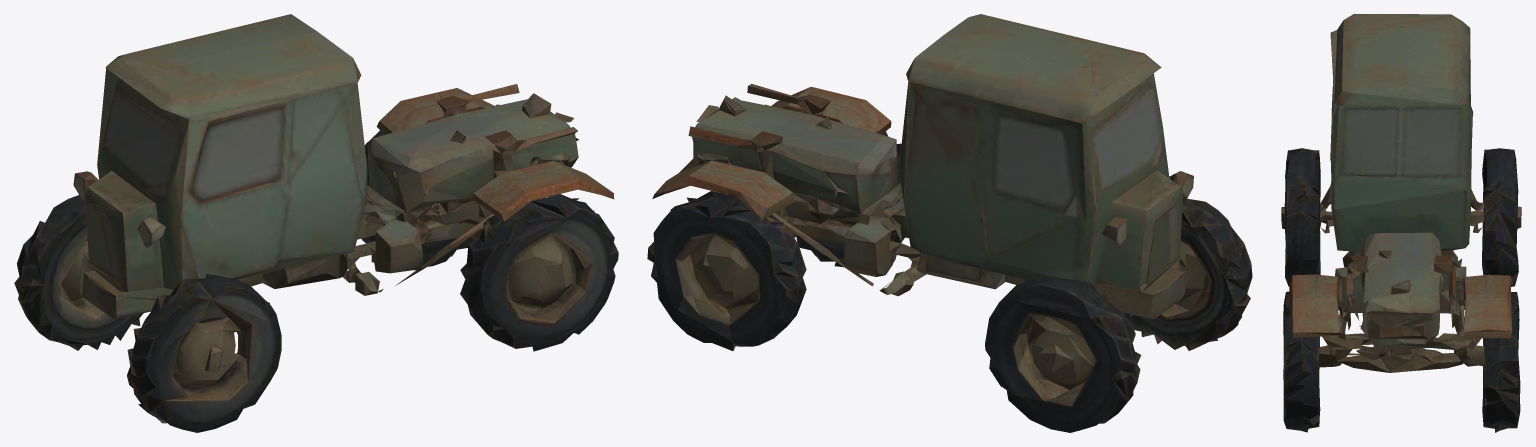
The model's file is tractor.glb.
3 views of the same model, side by side, from view 1: azimuth 30°, elevation 25°; view 2: azimuth 150°, elevation 25°; view 3: azimuth 270°, elevation 25° (orthographic). The views are drawn at different scales.
Visible parts, largest first — view 1: mesh_node; view 2: mesh_node; view 3: mesh_node.
Part boxes in pixels (<box>): mesh_node: <box>14,14,618,432</box>; mesh_node: <box>647,14,1252,432</box>; mesh_node: <box>1281,14,1521,432</box>.
Size of the model in its own units: 1.9 by 1.15 by 0.9259.
Materials: 1 (1 with a texture image).
